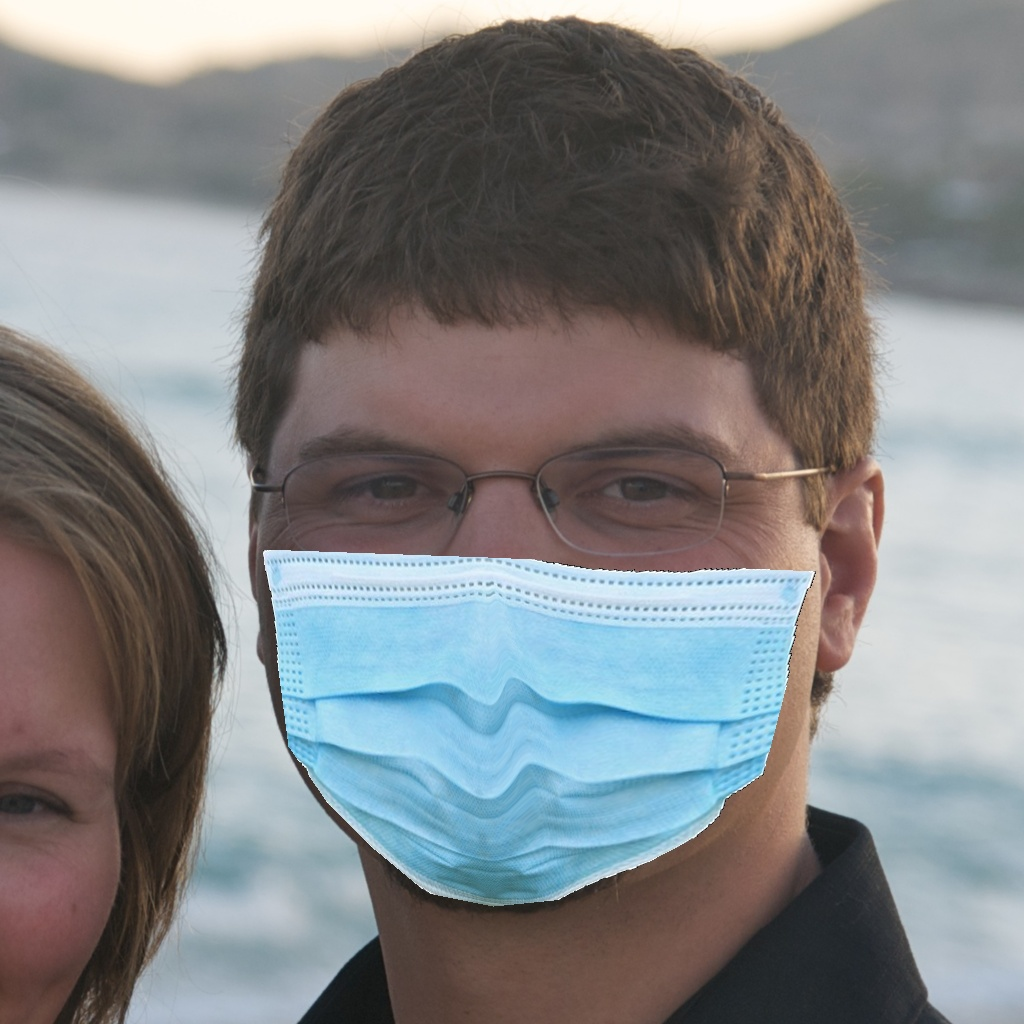Mask: (253, 394, 810, 914)
